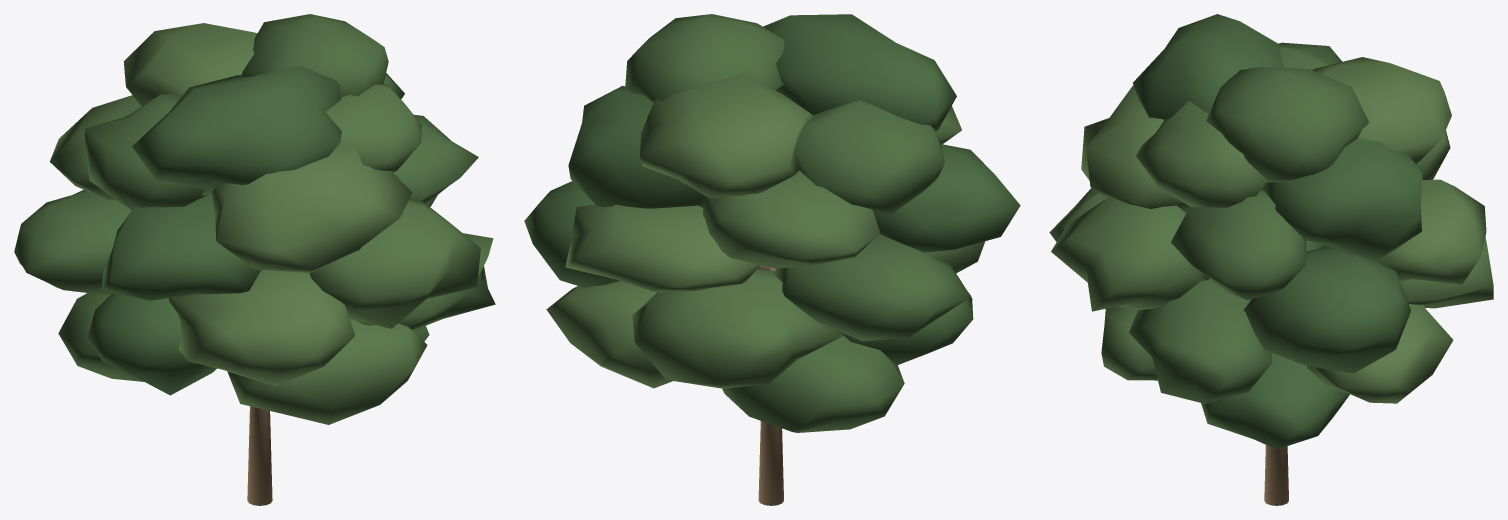
File: beech_1.glb
3 renders of one model, left to right at view 1: azimuth 30°, elevation 25°; view 2: azimuth 150°, elevation 25°; view 3: azimuth 270°, elevation 25°, orthographic. The views are drawn at different scales.
Visible parts, largest first — view 1: Beech canopy.086, Beech canopy.081, Beech canopy.073, Beech canopy.076, Beech canopy.078, Beech canopy.068, Beech canopy.075, Beech canopy.087, Beech canopy.070, Beech canopy.085, Beech canopy.083, Beech canopy.084 (+5 smaller); view 2: Beech canopy.072, Beech canopy.085, Beech canopy.086, Beech canopy.075, Beech canopy.077, Beech canopy.083, Beech canopy.080, Beech canopy.067, Beech canopy.087, Beech canopy.082, Beech canopy.078, Beech canopy.069 (+4 smaller); view 3: Beech canopy.074, Beech canopy.087, Beech canopy.082, Beech canopy.071, Beech canopy.076, Beech canopy.079, Beech canopy.086, Beech canopy.084, Beech canopy.085, Beech canopy.066, Beech canopy.077, Beech canopy.081 (+7 smaller).
Boxes of the visible parts, <box> form: Beech canopy.086: <box>132,66,341,195</box>; Beech canopy.081: <box>212,145,412,272</box>; Beech canopy.073: <box>169,270,355,386</box>; Beech canopy.076: <box>309,199,480,328</box>; Beech canopy.078: <box>101,194,262,300</box>; Beech canopy.068: <box>227,319,427,424</box>; Beech canopy.075: <box>14,191,131,295</box>; Beech canopy.087: <box>241,14,388,97</box>; Beech canopy.070: <box>88,293,216,395</box>; Beech canopy.085: <box>123,23,257,105</box>; Beech canopy.083: <box>84,94,206,209</box>; Beech canopy.084: <box>326,84,421,172</box>; Beech canopy.072: <box>632,268,842,388</box>; Beech canopy.085: <box>640,73,813,197</box>; Beech canopy.086: <box>763,14,956,131</box>; Beech canopy.075: <box>774,233,971,341</box>; Beech canopy.077: <box>565,204,760,292</box>; Beech canopy.083: <box>794,100,944,213</box>; Beech canopy.080: <box>703,170,880,268</box>; Beech canopy.067: <box>722,333,904,432</box>; Beech canopy.087: <box>625,14,784,102</box>; Beech canopy.082: <box>568,85,703,208</box>; Beech canopy.078: <box>873,144,1020,252</box>; Beech canopy.069: <box>546,281,672,388</box>; Beech canopy.074: <box>1243,246,1411,373</box>; Beech canopy.087: <box>1206,67,1369,182</box>; Beech canopy.082: <box>1261,138,1422,262</box>; Beech canopy.071: <box>1129,278,1271,403</box>; Beech canopy.076: <box>1051,197,1209,311</box>; Beech canopy.079: <box>1171,190,1306,300</box>; Beech canopy.086: <box>1133,14,1283,119</box>; Beech canopy.084: <box>1136,101,1267,207</box>; Beech canopy.085: <box>1312,57,1451,164</box>; Beech canopy.066: <box>1201,353,1349,449</box>; Beech canopy.077: <box>1377,179,1486,284</box>; Beech canopy.081: <box>1081,85,1189,212</box>.
Size of the model in its own units: 10.76 by 11.38 by 10.01.
